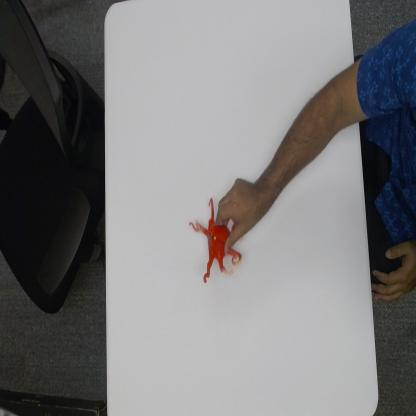Arm: (264, 55, 358, 209)
Hand: (215, 177, 267, 255)
Octopus: (187, 196, 245, 285)
